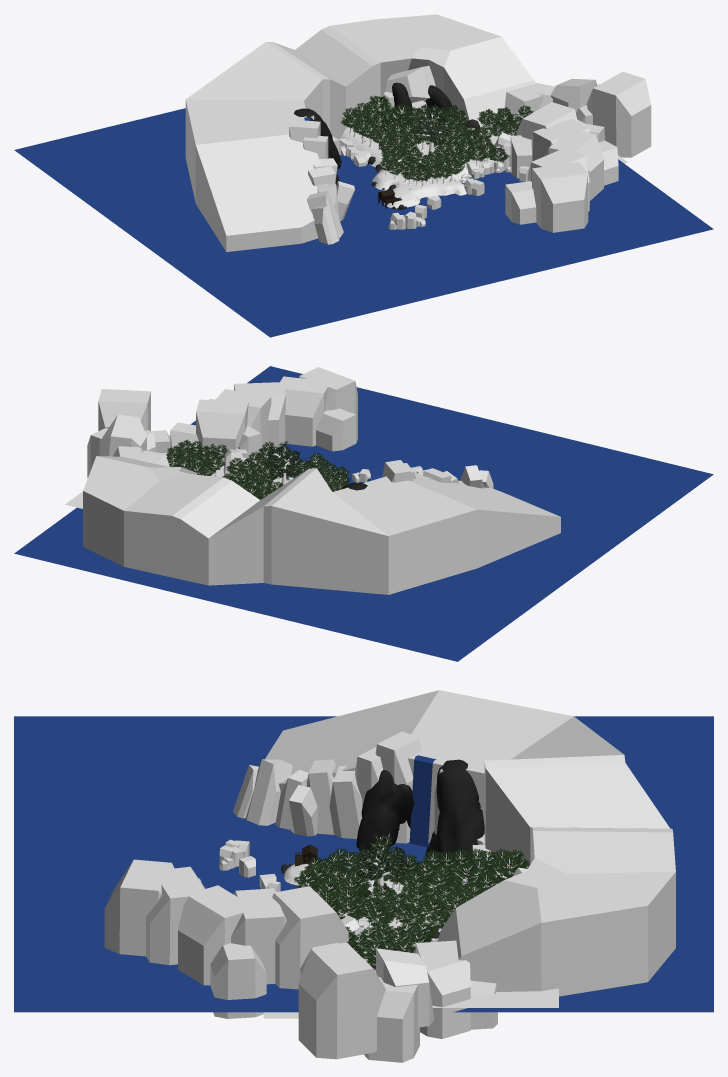
Rendered from map_sc2a5.glb.
The picture shows the model from 3 angles, top to bottom: view 1: azimuth 30°, elevation 25°; view 2: azimuth 150°, elevation 25°; view 3: azimuth 270°, elevation 25°; orthographic projection. The views are drawn at different scales.
Visible parts, largest first — view 1: Cube, Plane.001, land, Circle, Brock; view 2: Cube, Plane.001, Circle; view 3: Cube, Plane.001, Brock (×2), land, Circle, Tree.
Boxes of the visible parts, <box> form: Cube: <box>185,14,651,251</box>; Plane.001: <box>14,108,713,337</box>; land: <box>341,100,627,208</box>; Circle: <box>413,109,448,154</box>; Brock: <box>294,108,341,168</box>; Cube: <box>83,367,560,594</box>; Plane.001: <box>14,366,713,661</box>; Circle: <box>264,441,299,485</box>; Cube: <box>104,690,675,1062</box>; Plane.001: <box>14,716,713,1012</box>; Brock (×2): <box>356,759,484,863</box>; land: <box>263,864,558,1018</box>; Circle: <box>354,833,409,903</box>; Tree: <box>447,860,484,889</box>.
Size of what is drawn, in the model's own units: 333 by 75 by 299.
Materials: 13 (9 with a texture image).
